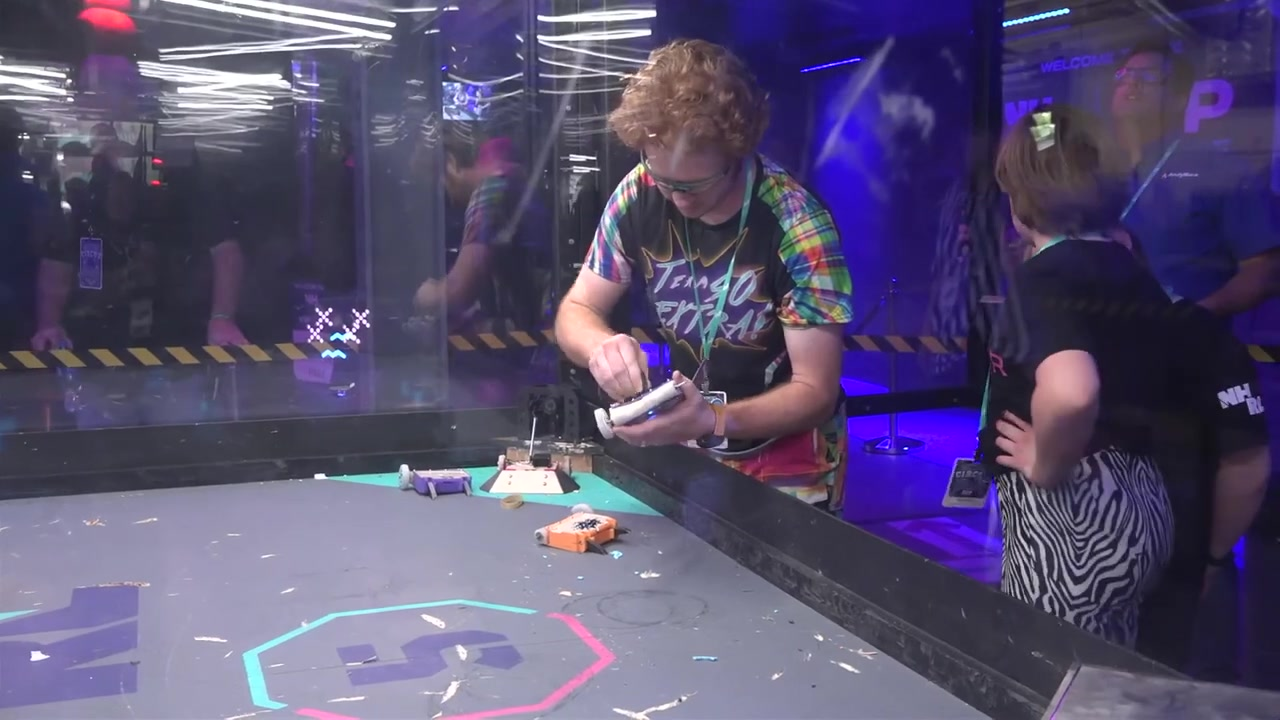combatbot: (483, 452, 581, 496)
minibot: (536, 505, 625, 557), (396, 464, 477, 497)
